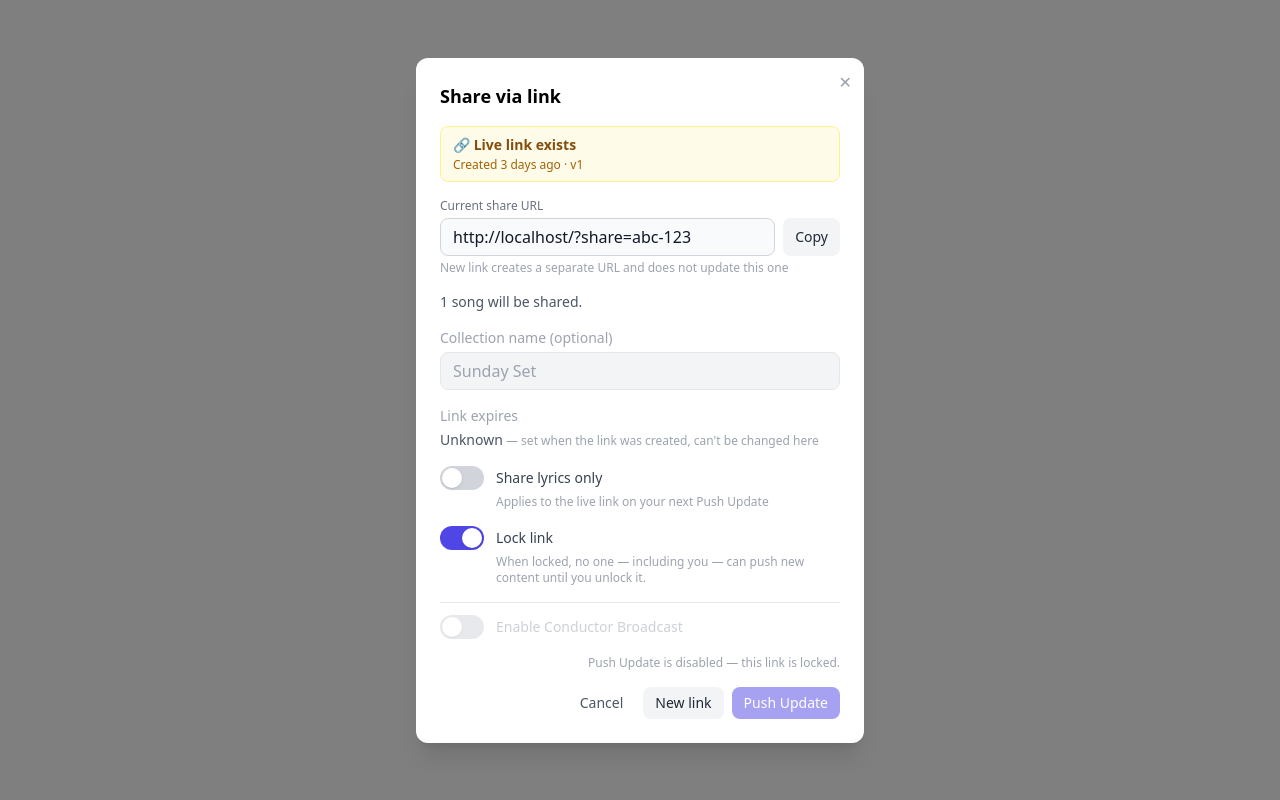
ShareModal — update mode › clicking Lock link on a legacy locked share with no pin shows an explanatory message instead of a PIN entry
This screenshot has width=1280, height=800.
Click the switch labelled "Lock link" at (462, 538), box [440,526,840,550]
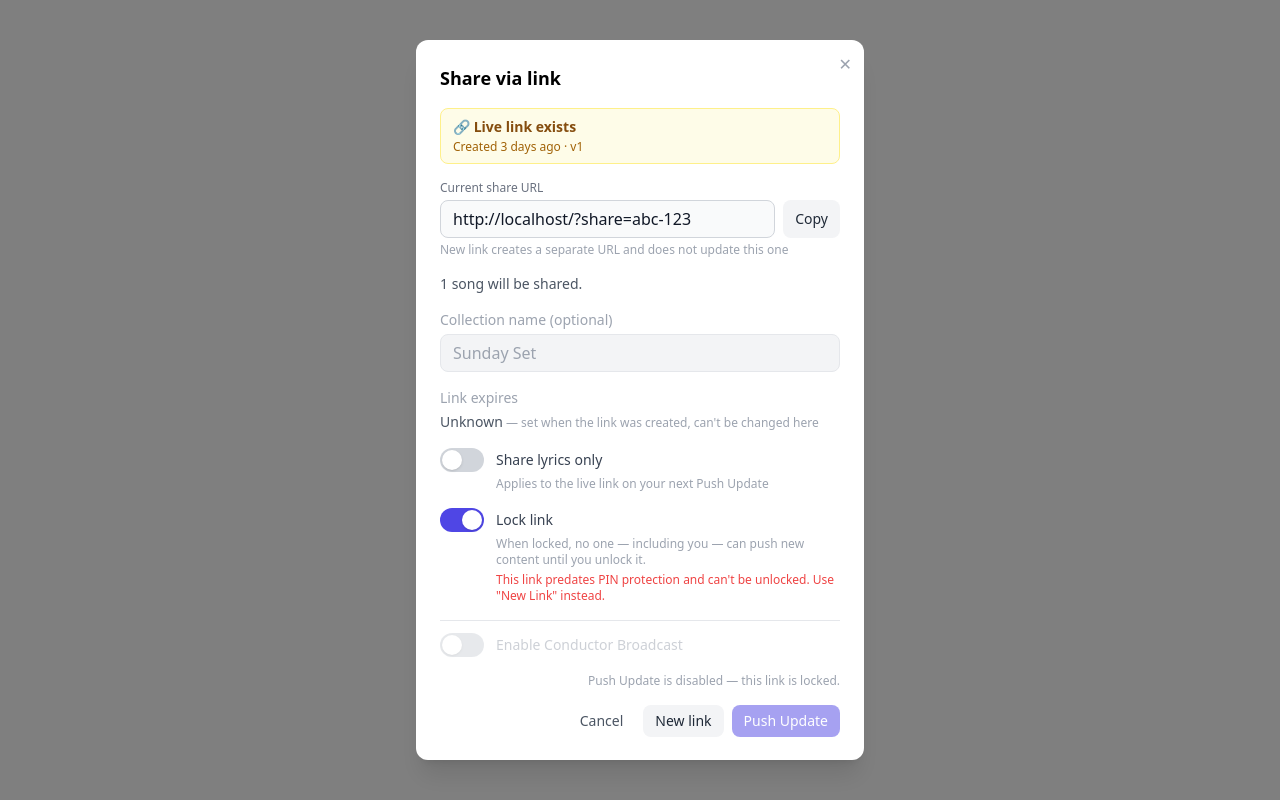
Check: the text "predates PIN protection" is shown, box [496,571,834,604]
